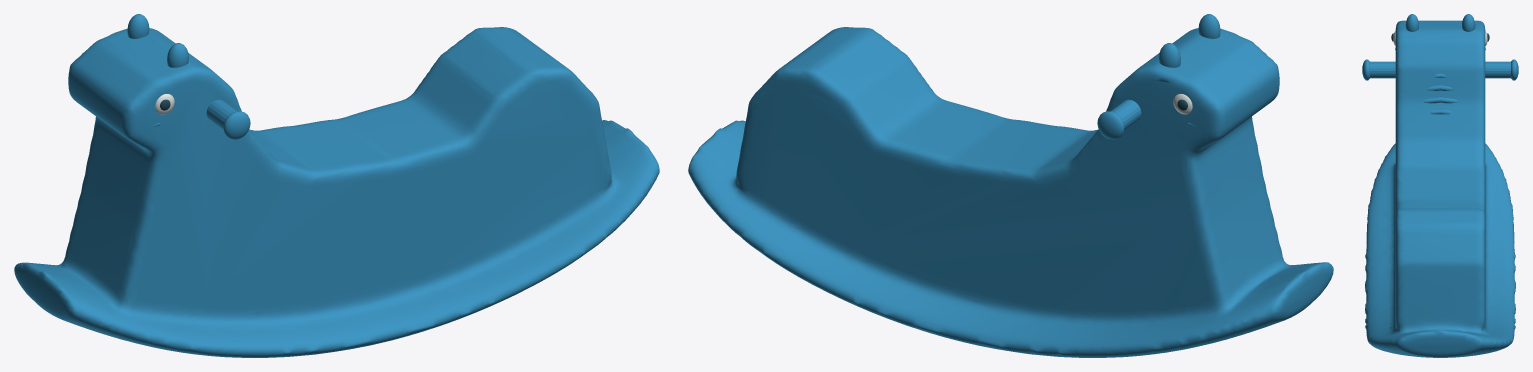
File: A-NEW-20261026-ROCKING-HORSE-001_LOD2_R5.glb
3 renders of one model, left to right at view 1: azimuth 30°, elevation 25°; view 2: azimuth 150°, elevation 25°; view 3: azimuth 270°, elevation 25°, orthographic. The views are drawn at different scales.
Parts seen in each view (by area): view 1: molded blue horse body, handhold end -1, transverse molded handhold; view 2: molded blue horse body, handhold end 1, transverse molded handhold; view 3: molded blue horse body, transverse molded handhold, shallow ear -1, shallow ear 1, shallow mane ridge 2, handhold end -1, handhold end 1.
Boxes of the visible parts, x1,y1,x2,y2 form: molded blue horse body: (14,27,659,357); handhold end -1: (223,111,250,139); transverse molded handhold: (206,99,237,129); molded blue horse body: (688,27,1333,357); handhold end 1: (1097,111,1124,139); transverse molded handhold: (1110,99,1141,129); molded blue horse body: (1365,20,1515,357); transverse molded handhold: (1370,61,1510,78); shallow ear -1: (1405,14,1418,31); shallow ear 1: (1462,14,1475,31); shallow mane ridge 2: (1423,96,1457,103); handhold end -1: (1362,59,1369,80); handhold end 1: (1511,59,1518,80).
Size of the model in its own units: 0.81 by 0.4351 by 0.2622.
